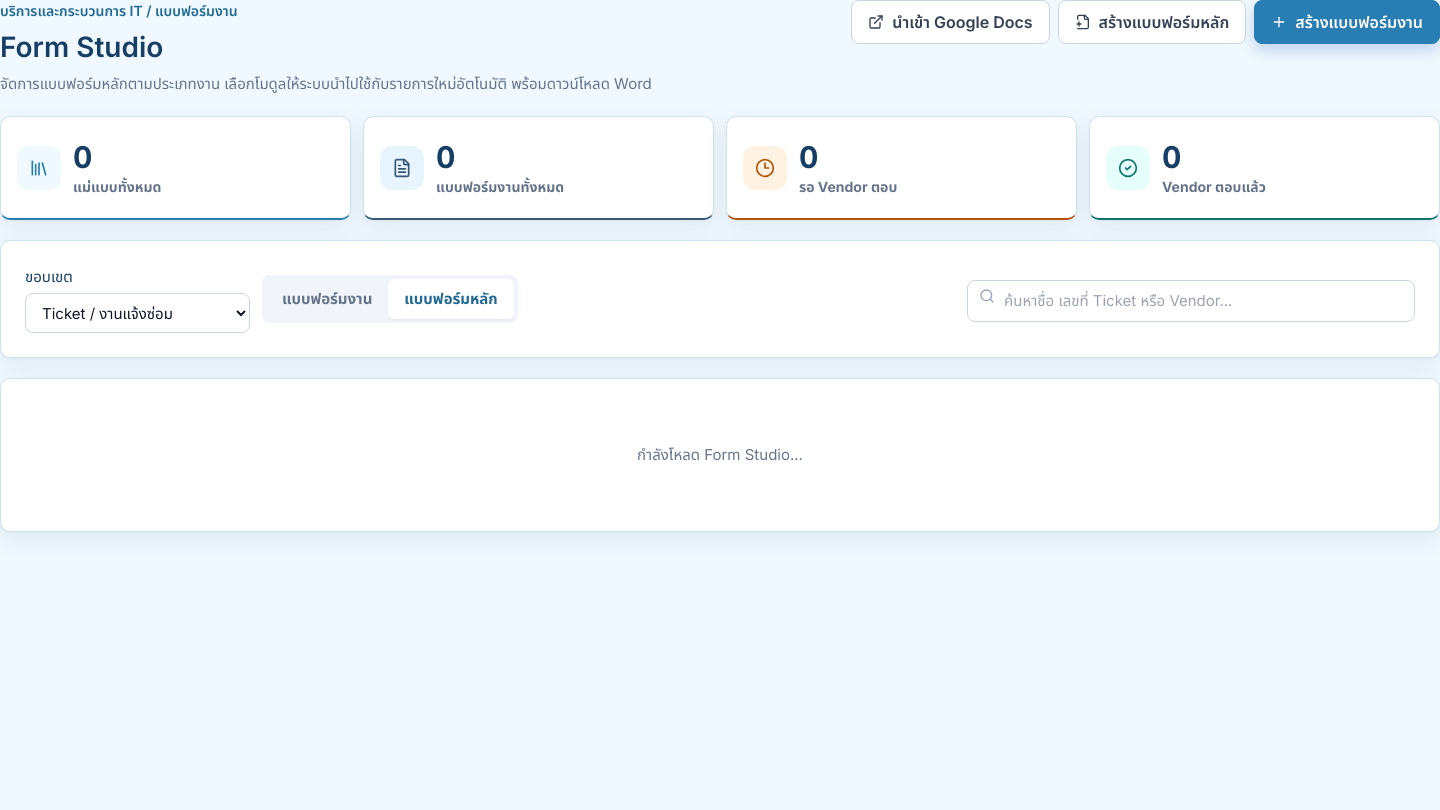
Scenario: Form Studio เป็นแบบฟอร์มหลักที่ผูกกับ Ticket › ให้เลือกโมดูลตอนสร้างแบบฟอร์มหลักเพื่อใช้ร่วมกันทั้งโมดูล
Click the button "สร้างแบบฟอร์มหลัก" at x=1152, y=22, box [1058, 0, 1246, 44]
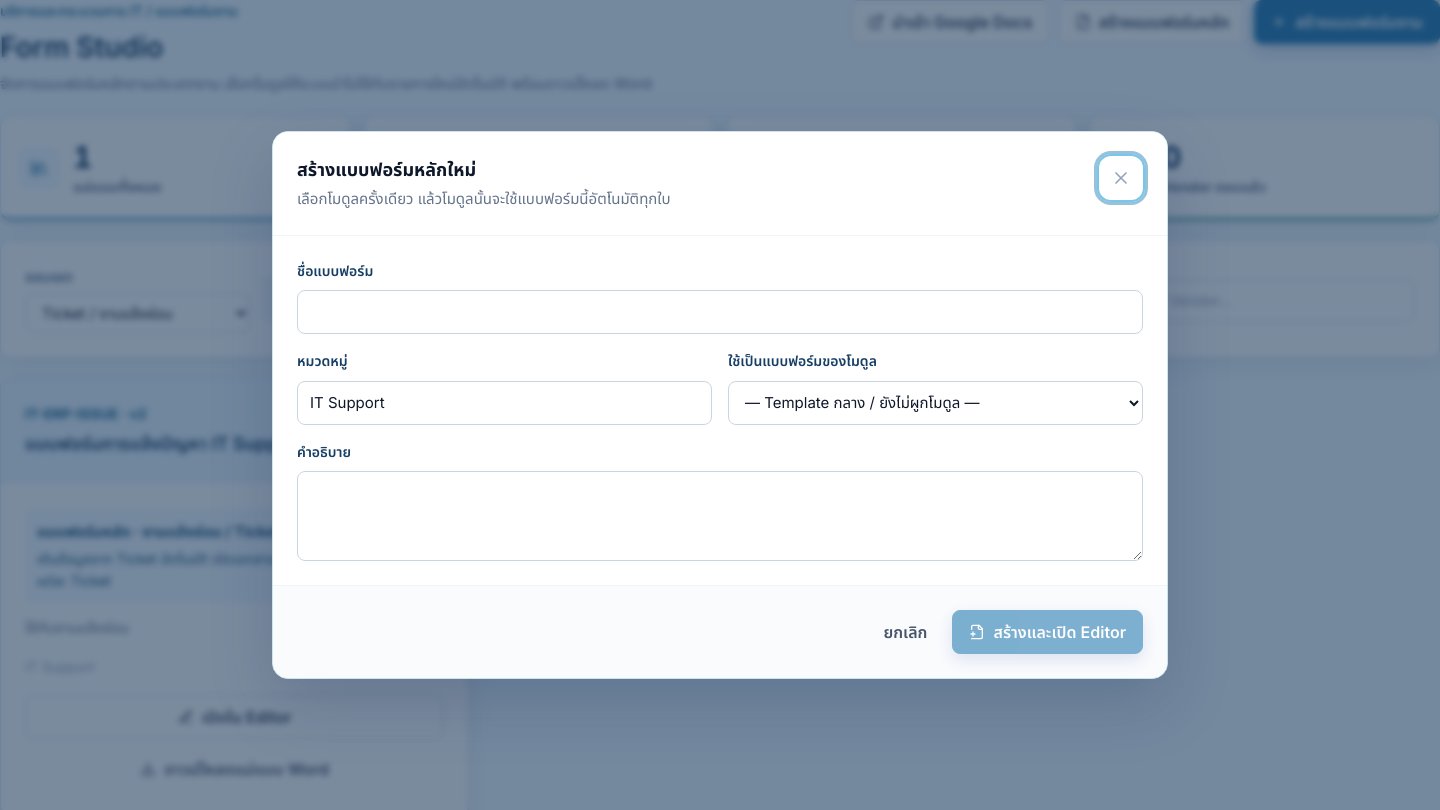
Check: the dropdown labelled "ใช้เป็นแบบฟอร์มของโมดูล" is shown, box [728, 381, 1143, 425]
